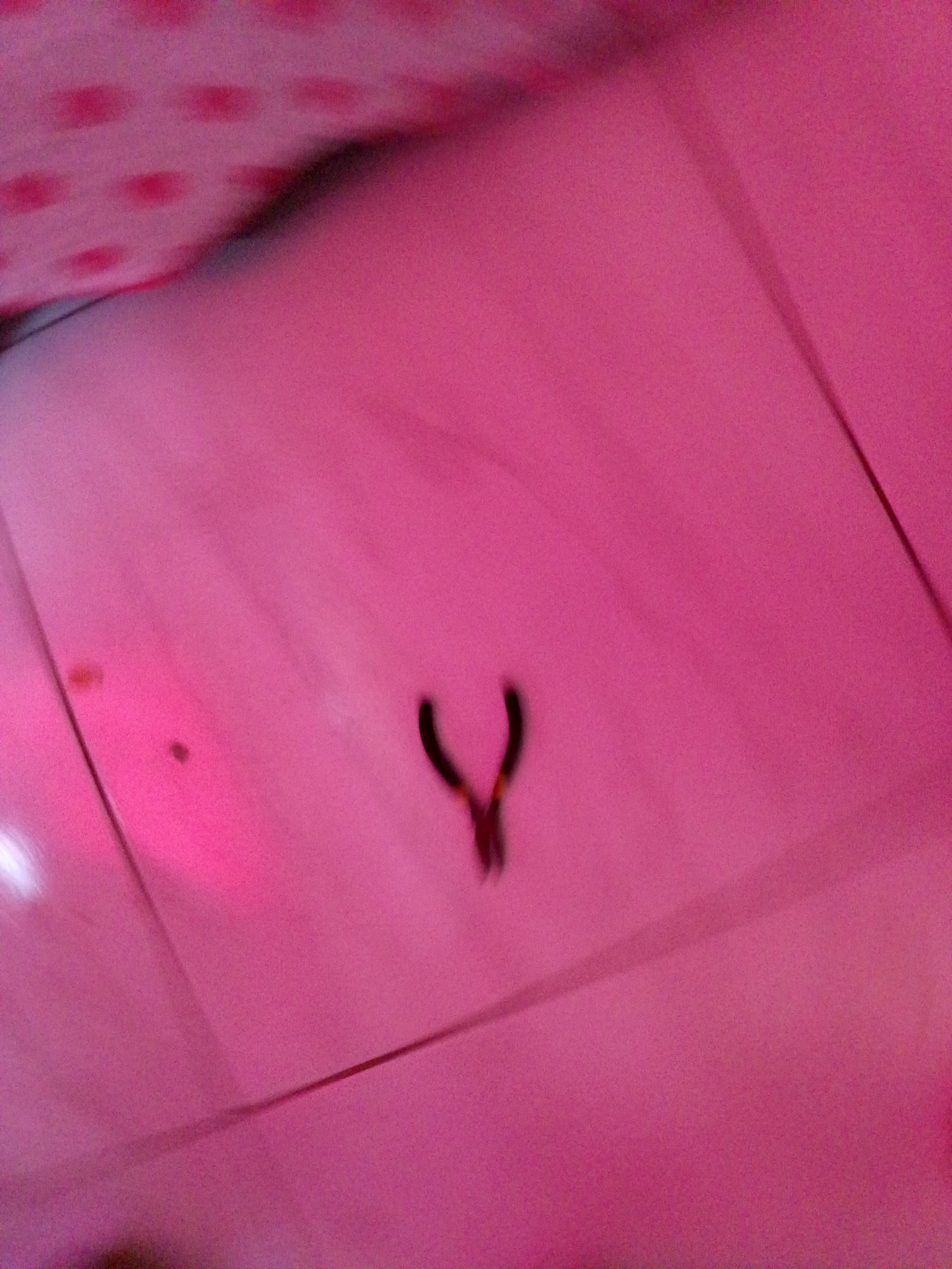Pinzas: (416, 674, 525, 876)
